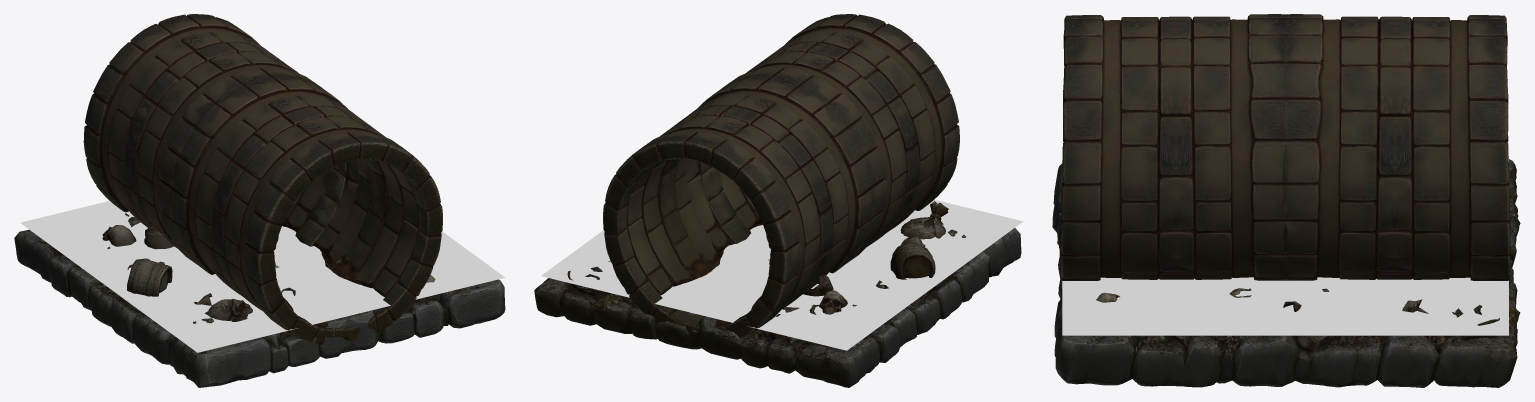
File: Crawlspace_Pipe_Straight.fbx
3 renders of one model, left to right at view 1: azimuth 30°, elevation 25°; view 2: azimuth 150°, elevation 25°; view 3: azimuth 270°, elevation 25°, orthographic. The views are drawn at different scales.
Visible parts, largest first — view 1: CrawlSpace_Pipe_Straight_01; view 2: CrawlSpace_Pipe_Straight_01; view 3: CrawlSpace_Pipe_Straight_01.
Boxes of the visible parts, x1=… form: CrawlSpace_Pipe_Straight_01: x1=14, y1=14, x2=505, y2=387; CrawlSpace_Pipe_Straight_01: x1=534, y1=14, x2=1023, y2=387; CrawlSpace_Pipe_Straight_01: x1=1052, y1=14, x2=1520, y2=387.
Size of the model in its own units: 312 by 196 by 314.
3 materials, 2 textured.
